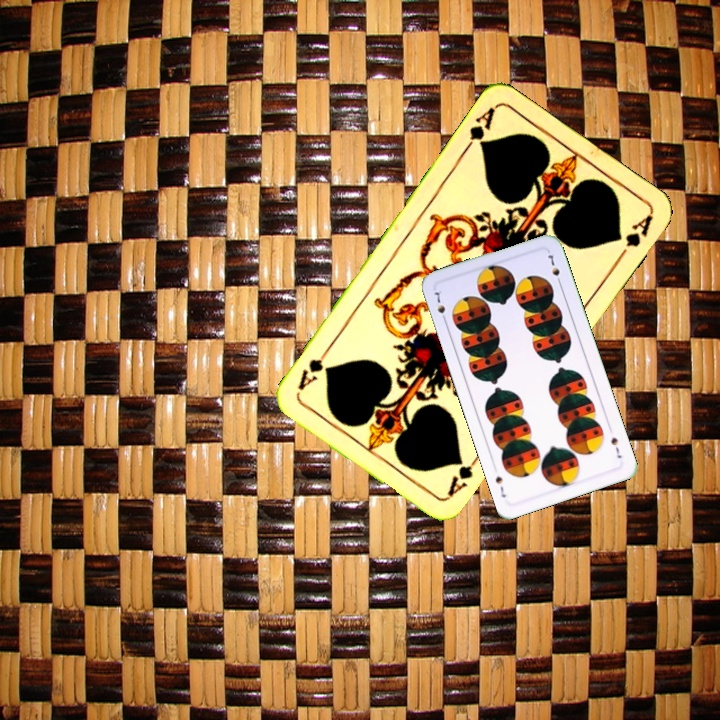GA: (443, 448, 485, 500), (459, 102, 498, 156)
S7: (430, 287, 449, 325), (607, 433, 625, 461)
